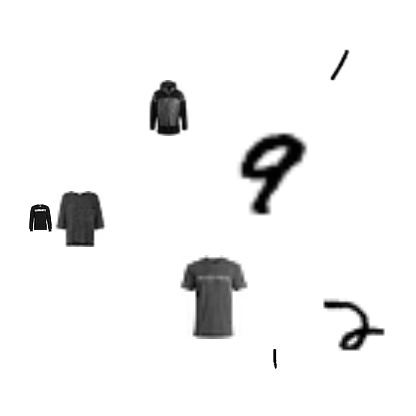1: (319, 44, 361, 86), (260, 344, 288, 372)
2: (312, 284, 396, 368)
9: (214, 110, 326, 222)
Coat: (140, 80, 196, 136)
Pullover: (52, 191, 108, 247), (26, 204, 54, 232)
T-shirt/top: (172, 255, 256, 339)
